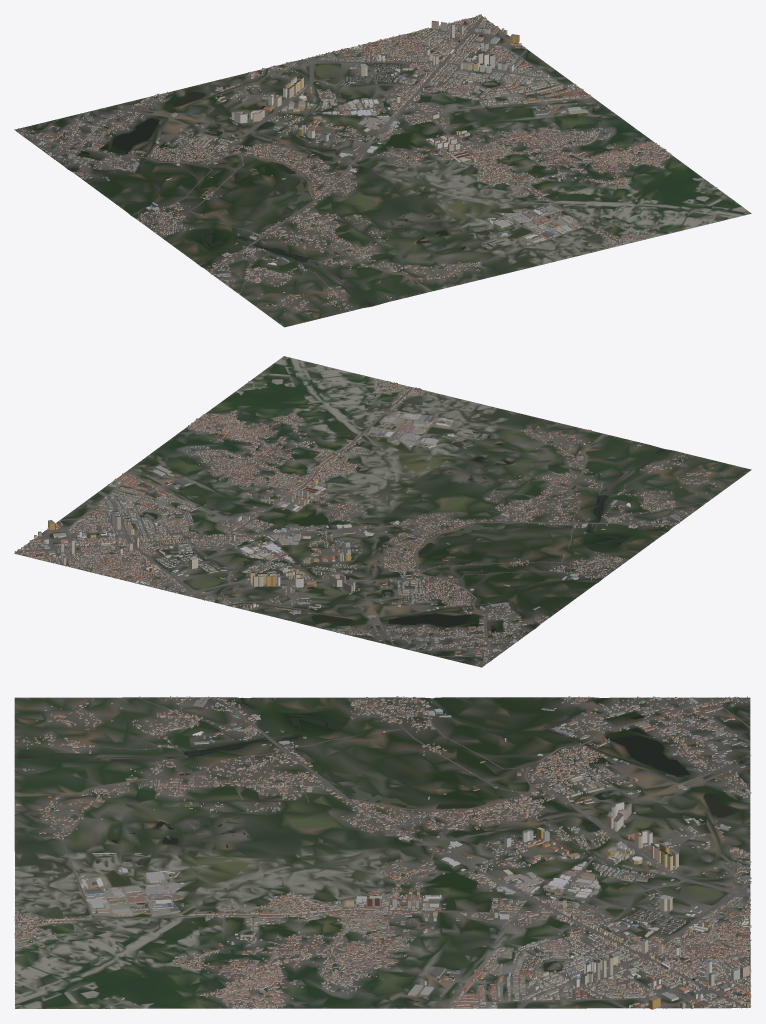
The picture shows the model from 3 angles, top to bottom: view 1: azimuth 30°, elevation 25°; view 2: azimuth 150°, elevation 25°; view 3: azimuth 270°, elevation 25°; orthographic projection. The views are drawn at different scales.
Parts seen in each view (by area): view 1: ground, buildings, roads, water; view 2: ground, buildings, roads, water; view 3: ground, buildings, roads, water.
Boxes of the visible parts, x1,y1,x2,y2 form: ground: [14, 16, 751, 327]; buildings: [14, 14, 717, 314]; roads: [22, 16, 623, 299]; water: [69, 40, 705, 304]; ground: [14, 356, 751, 667]; buildings: [14, 375, 724, 666]; roads: [16, 387, 706, 661]; water: [76, 381, 668, 631]; ground: [14, 697, 750, 1008]; buildings: [14, 696, 751, 1009]; roads: [14, 697, 751, 1008]; water: [19, 697, 736, 1008].
Size of the model in its own units: 5638 by 159 by 5626.
